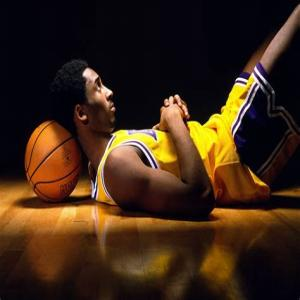Basket: (24, 120, 82, 201)
